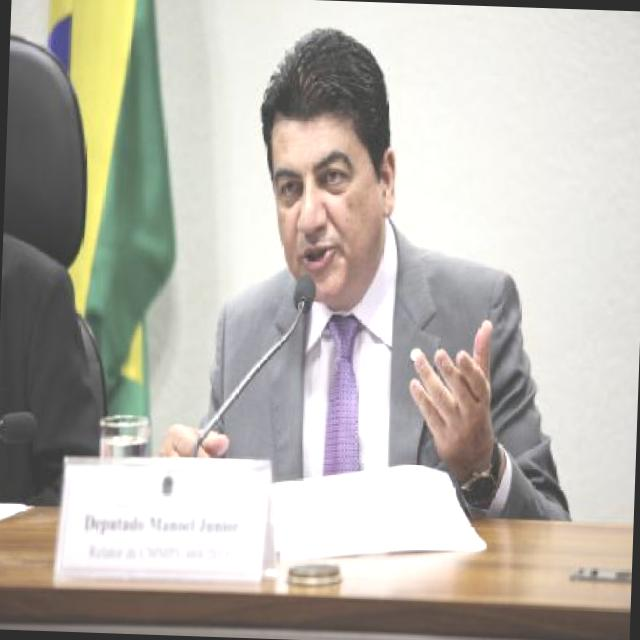Person: (177, 30, 550, 561)
